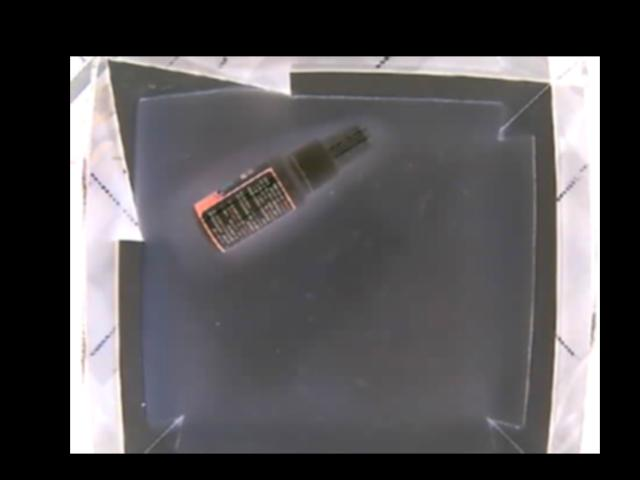Bottle: (191, 123, 373, 253)
